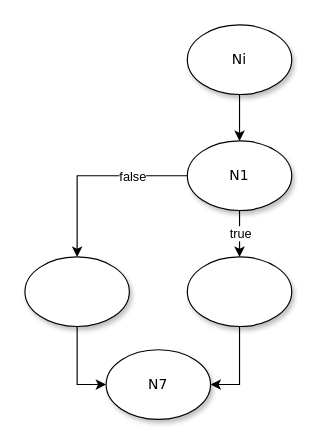
The diagram is 319 pixels wide and 448 high, and some of its shapes have lost their labels. Each missing label, with the centre of its shape:
N2, N3, N4, N5, N6: point 240,293
N7, N8: point 77,293
